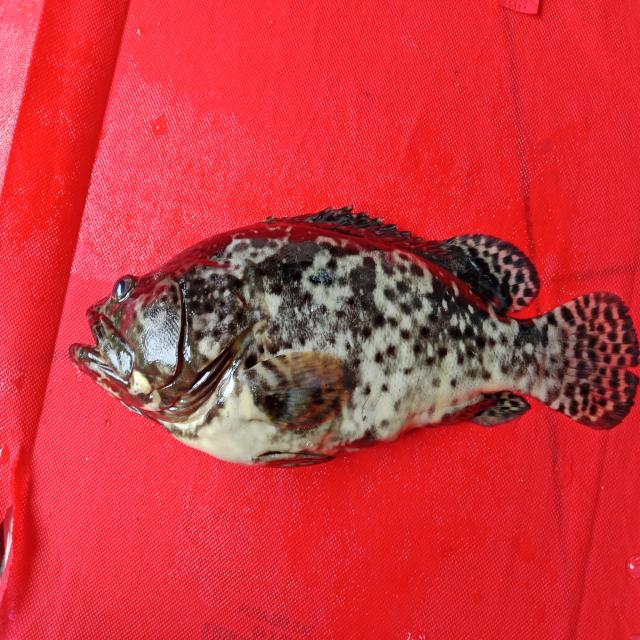ikan: (53, 191, 631, 478)
